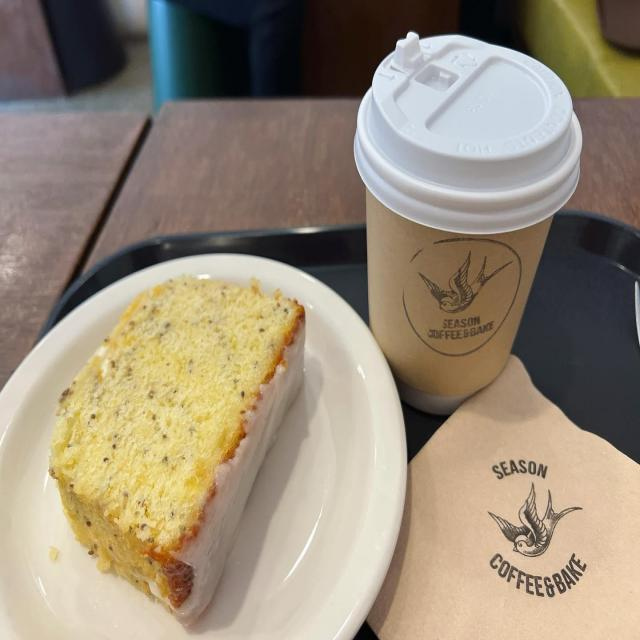cup-disposable: (349, 30, 587, 448)
